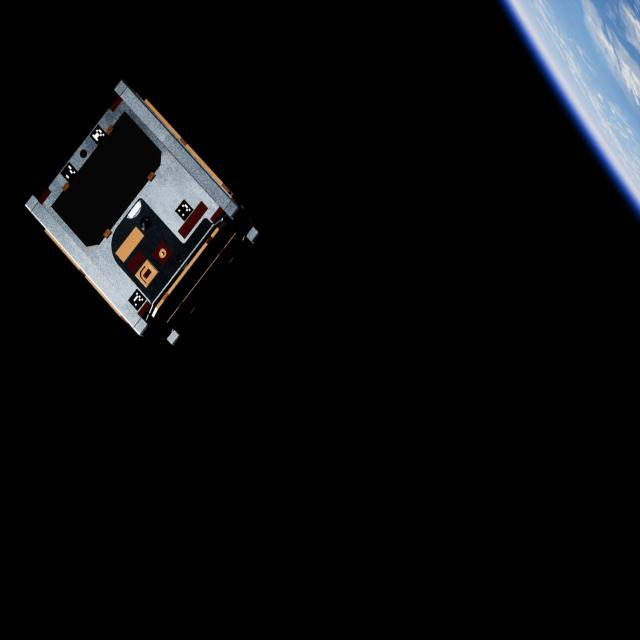satellite: (24, 78, 273, 347)
